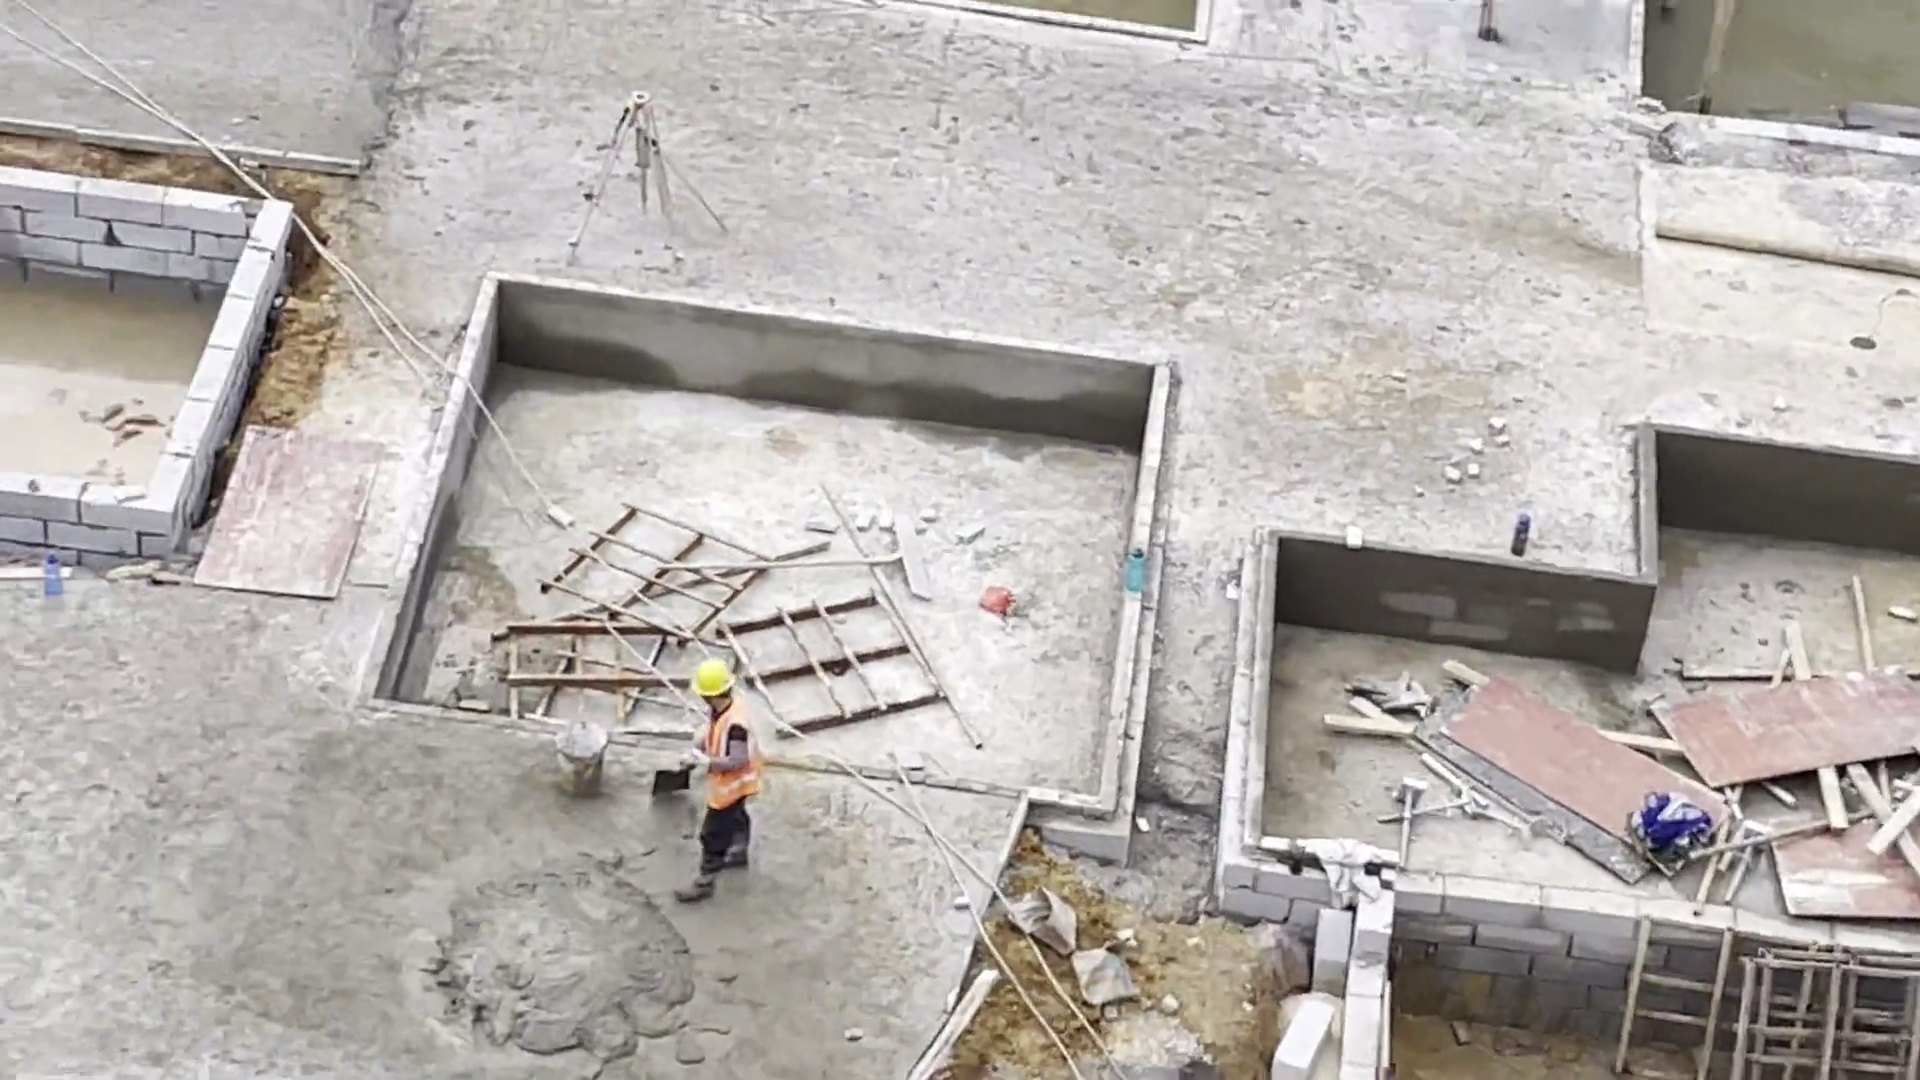helmet: (688, 657, 736, 699)
person: (678, 652, 762, 910)
vest: (703, 701, 763, 812)
